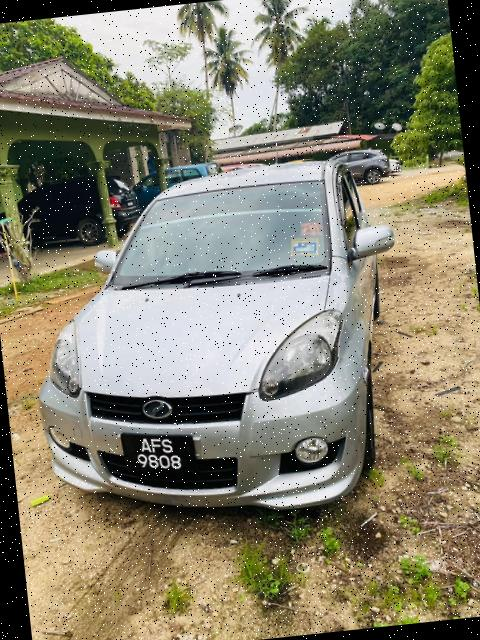License_Plate: (122, 428, 191, 482)
